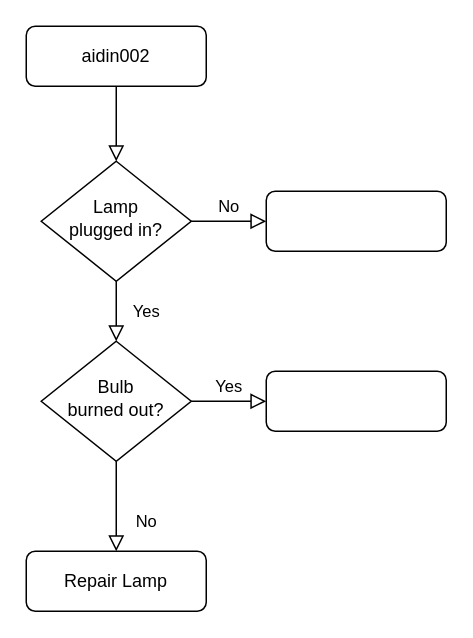
Some shapes in this 473 by 638 pixel diagram are drawn without their labels. The centre of each missing label's shape, as x and y in pixels:
"Plug in lamp" goes at pixel 355 220.
"Replace Bulb" goes at pixel 355 400.
